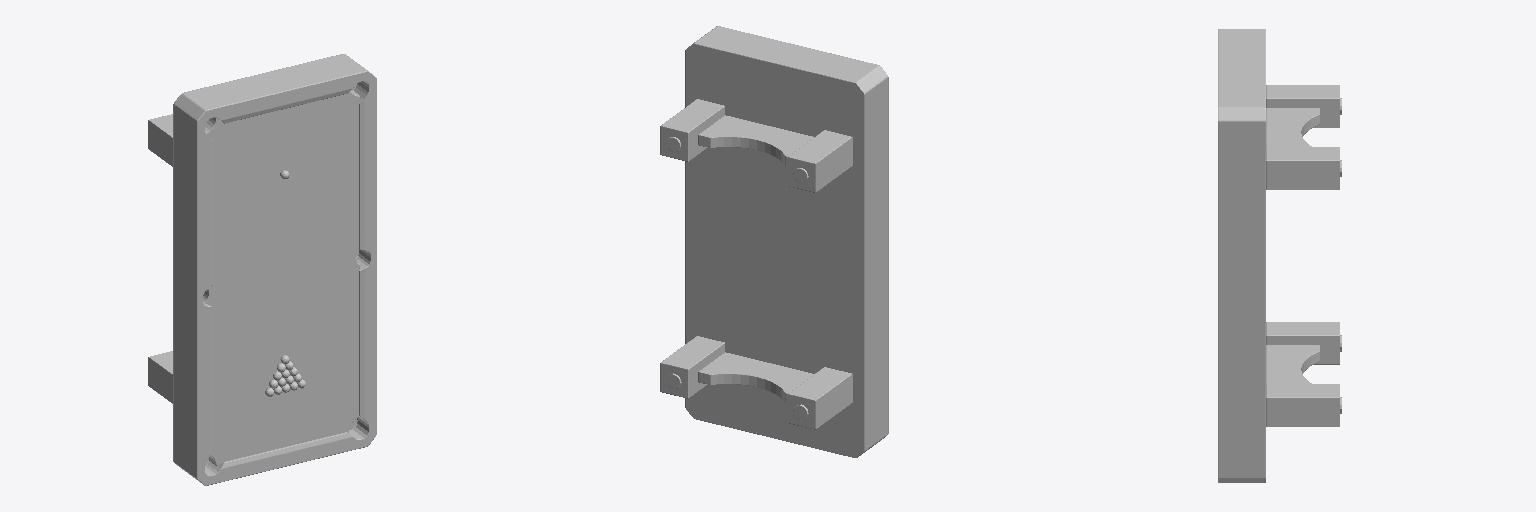
The model's file is 10523_Pool_Table_v1_L3.obj.
3 renders of one model, left to right at view 1: azimuth 30°, elevation 25°; view 2: azimuth 150°, elevation 25°; view 3: azimuth 270°, elevation 25°, orthographic.
Visible parts, largest first — view 1: 10523_Pool_Table_v1_L3; view 2: 10523_Pool_Table_v1_L3; view 3: 10523_Pool_Table_v1_L3.
Part boxes in pixels (bbox=[...]): 10523_Pool_Table_v1_L3: bbox=[148, 54, 376, 485]; 10523_Pool_Table_v1_L3: bbox=[660, 26, 888, 457]; 10523_Pool_Table_v1_L3: bbox=[1218, 29, 1341, 482].
Size of the model in its own units: 127 by 254 by 76.36.